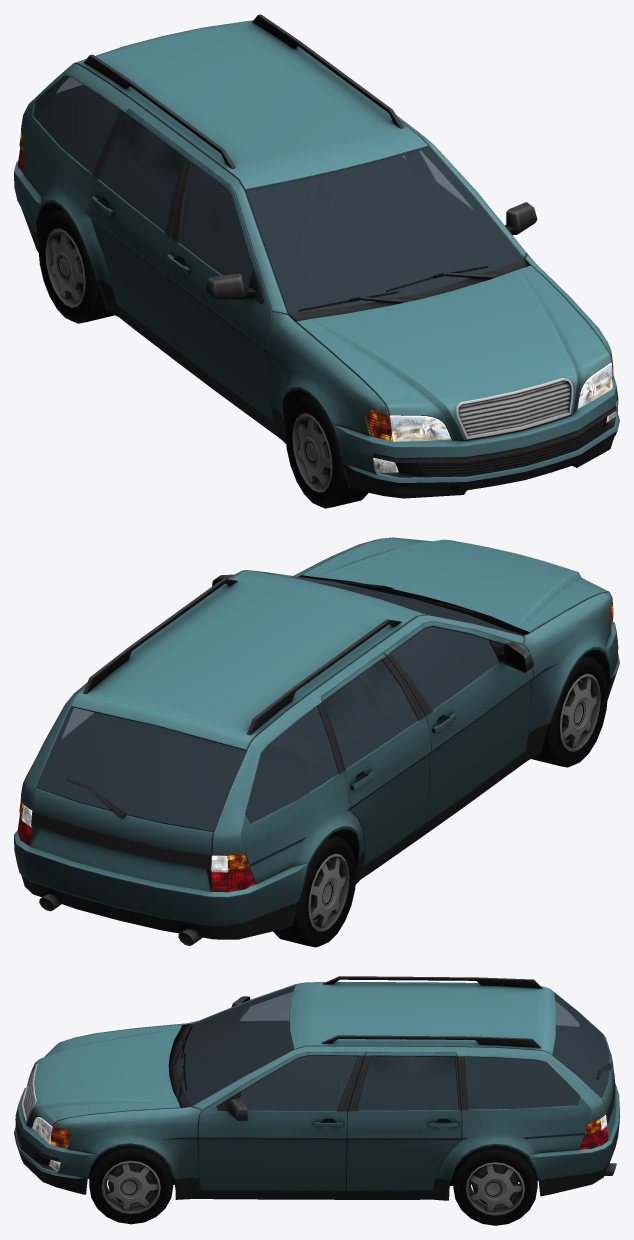
Rendered from road-wagon.glb.
The picture shows the model from 3 angles, top to bottom: view 1: azimuth 30°, elevation 25°; view 2: azimuth 150°, elevation 25°; view 3: azimuth 270°, elevation 25°; orthographic projection. The views are drawn at different scales.
Parts seen in each view (by area): view 1: Body, Wheel_FR, Wheel_RR; view 2: Body, Wheel_RR, Wheel_FR; view 3: Body, Wheel_RL, Wheel_FL.
Part boxes in pixels (x1,y1,x2,y2): Body: [14, 14, 619, 498]; Wheel_FR: [285, 394, 368, 508]; Wheel_RR: [38, 209, 114, 323]; Body: [14, 537, 619, 945]; Wheel_RR: [273, 835, 356, 947]; Wheel_FR: [531, 655, 607, 767]; Body: [14, 976, 619, 1200]; Wheel_RL: [453, 1145, 537, 1225]; Wheel_FL: [89, 1145, 173, 1224].
Bounding box in the file's own units: 2.16 × 1.53 × 4.85.
Materials: 5 (4 with a texture image).
